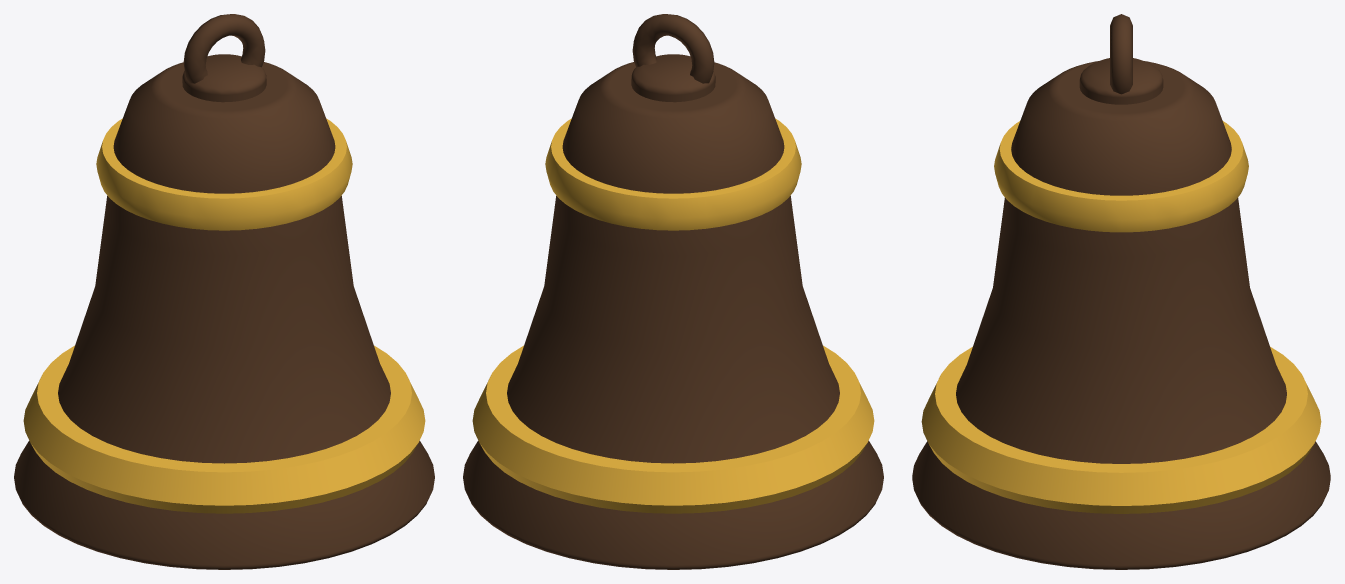
Rendered from K_Bell.fbx.
The picture shows the model from 3 angles, left to right: view 1: azimuth 30°, elevation 25°; view 2: azimuth 150°, elevation 25°; view 3: azimuth 270°, elevation 25°; orthographic projection.
Parts seen in each view (by area): view 1: K_Bell; view 2: K_Bell; view 3: K_Bell.
Boxes of the visible parts, box(x1,y1,x2,y2) form: K_Bell: box(14, 14, 434, 569); K_Bell: box(463, 14, 883, 569); K_Bell: box(912, 14, 1330, 569).
Bounding box in the file's own units: 1.1 × 1.35 × 1.1.
